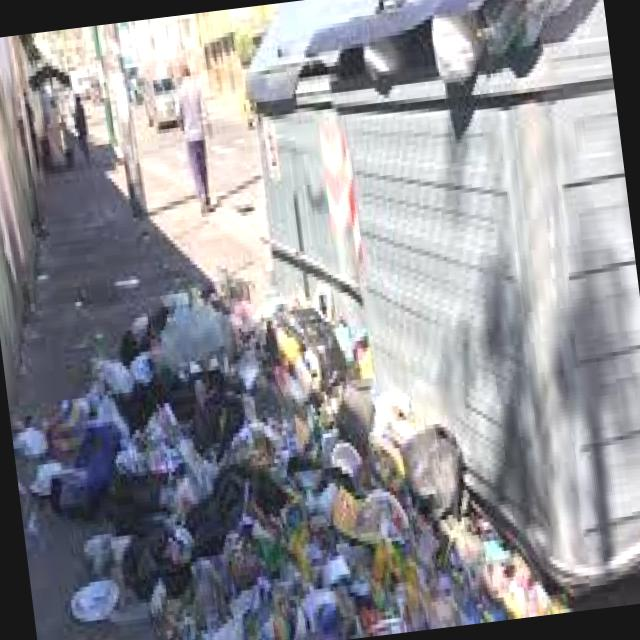garbage: (0, 277, 526, 640)
